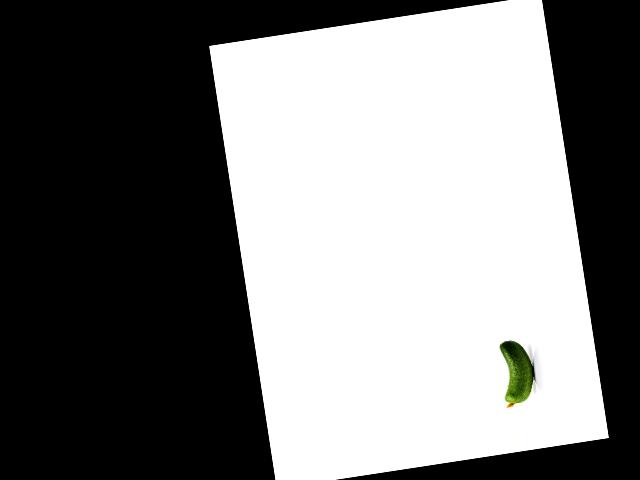cucumber: (496, 337, 538, 408)
